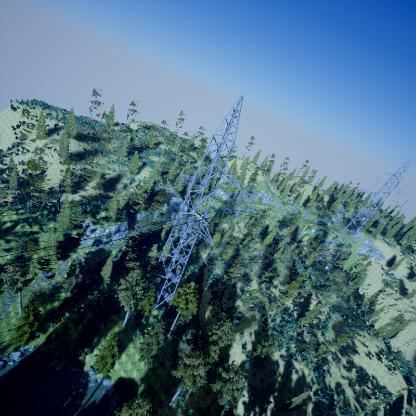tower: (151, 95, 245, 316)
